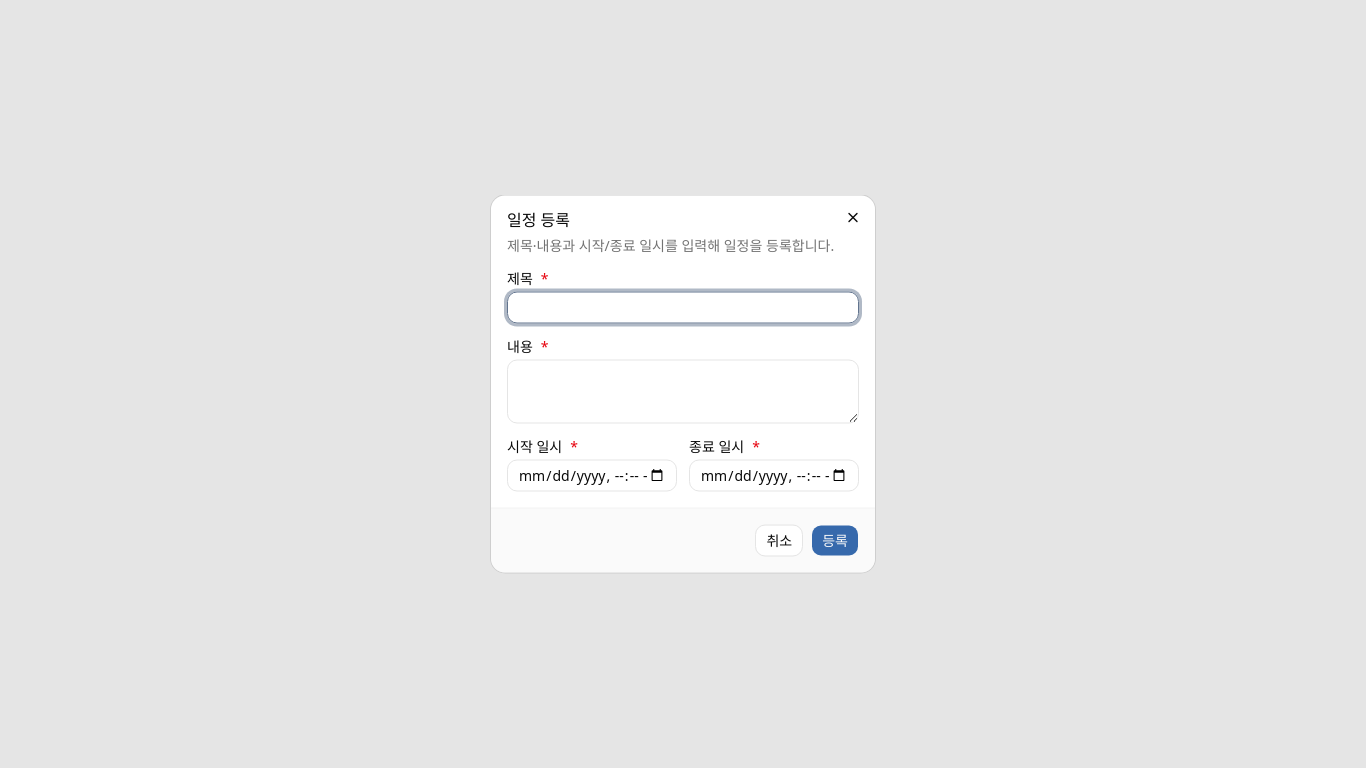
Scenario: ScheduleCreateDialog › 종료 일시가 시작 일시보다 이르면 인라인 에러가 뜨고 요청을 보내지 않는다
The width and height of the screenshot is (1366, 768).
Type "팀 회의 일정" into the field labelled "제목 *" at x=683, y=308, box [507,292,859,324]
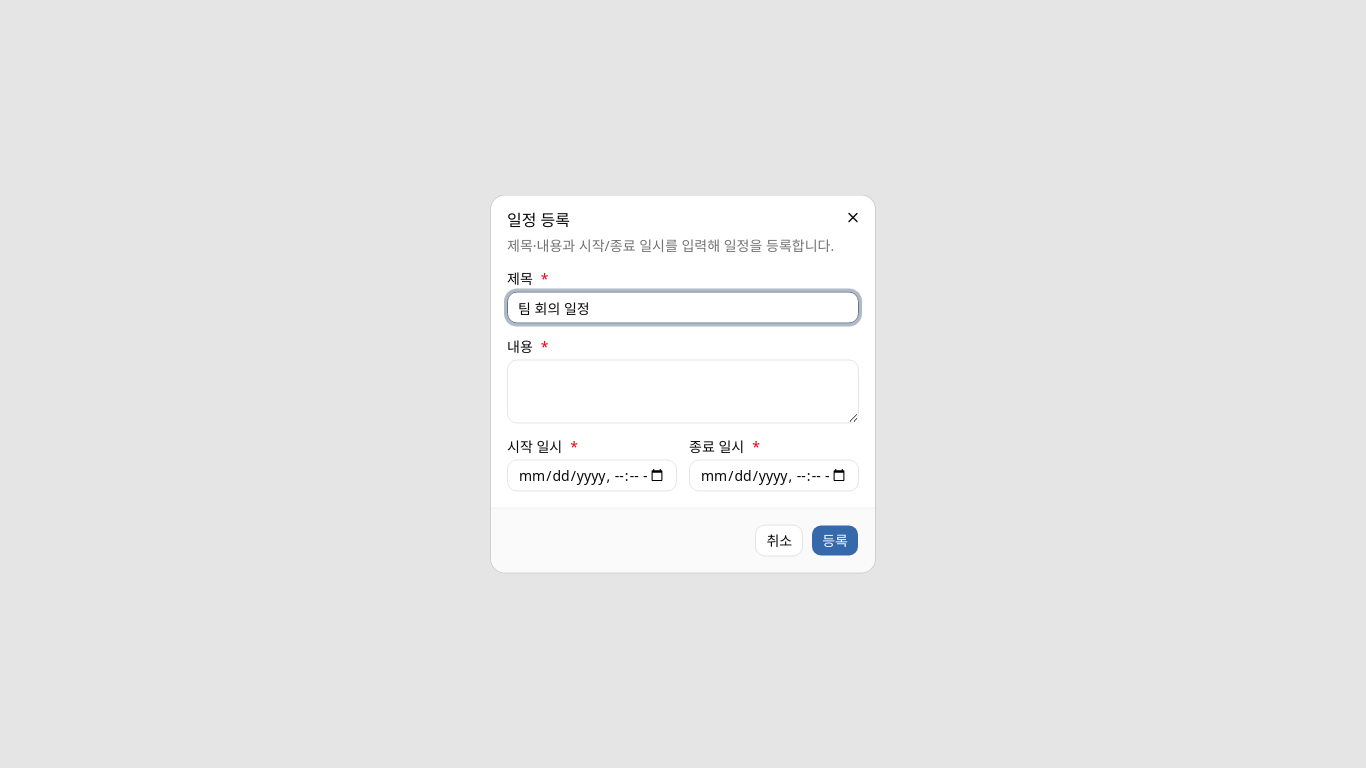
Type "주간 스크럼 진행" into the text box labelled "내용 *" at x=683, y=392, box [507,360,859,424]
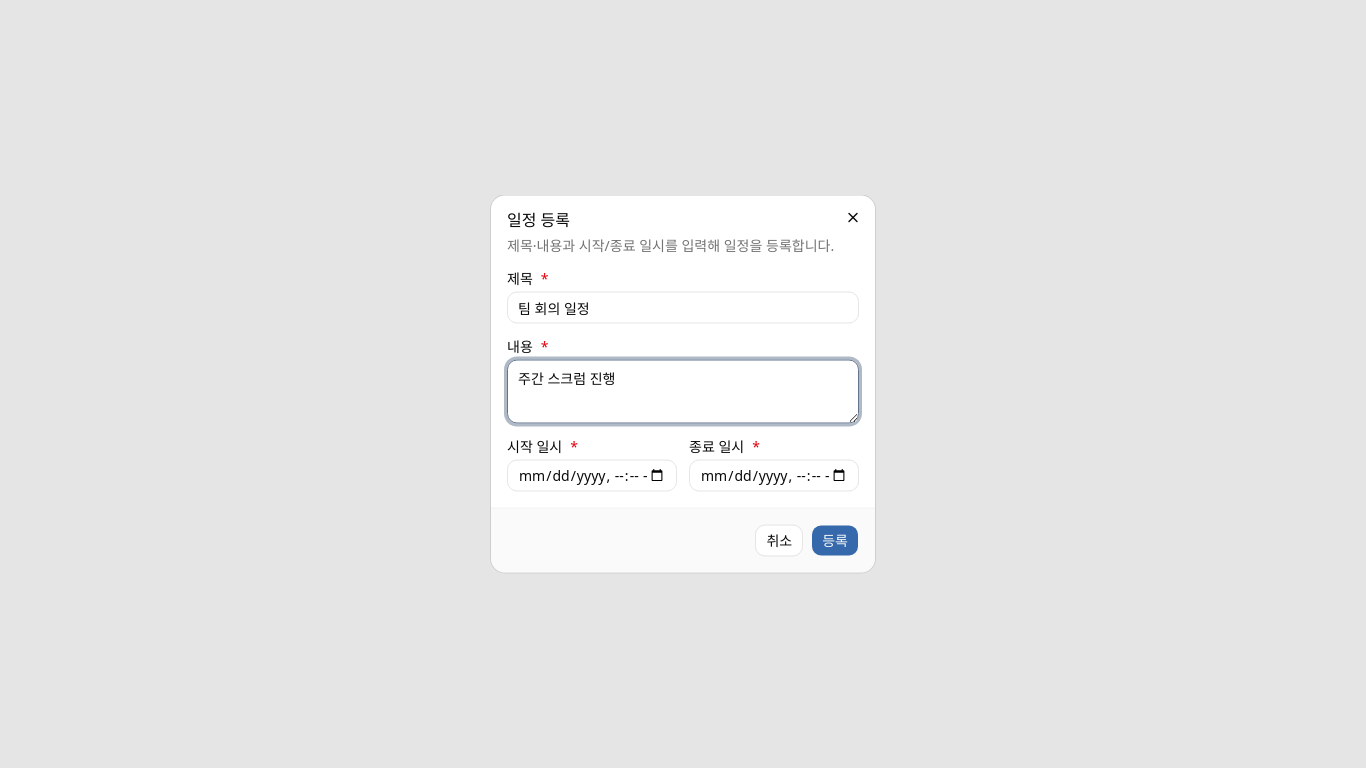
Type "2026-07-15T11:00" into the field labelled "시작 일시 *" at x=592, y=476, box [507,460,677,492]
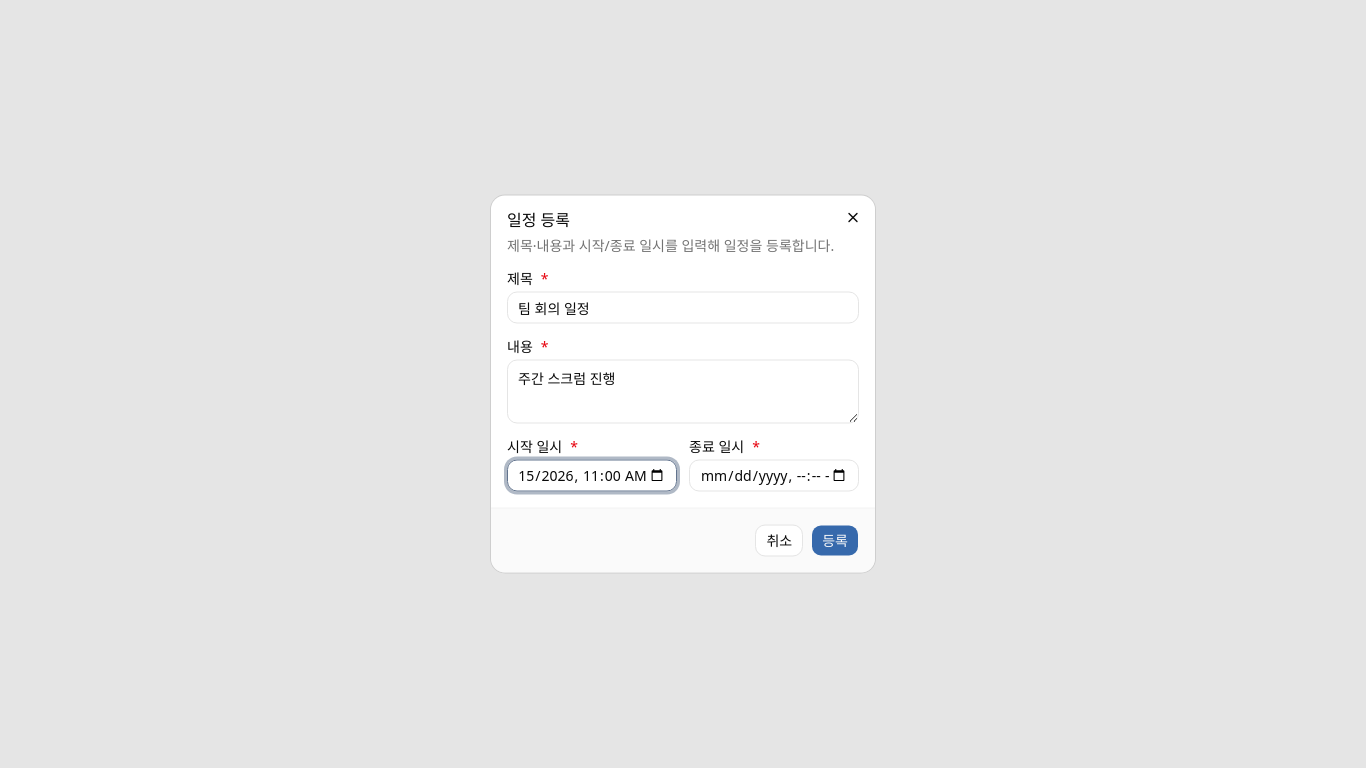
Type "2026-07-15T10:00" into the field labelled "종료 일시 *" at x=774, y=476, box [689,460,859,492]
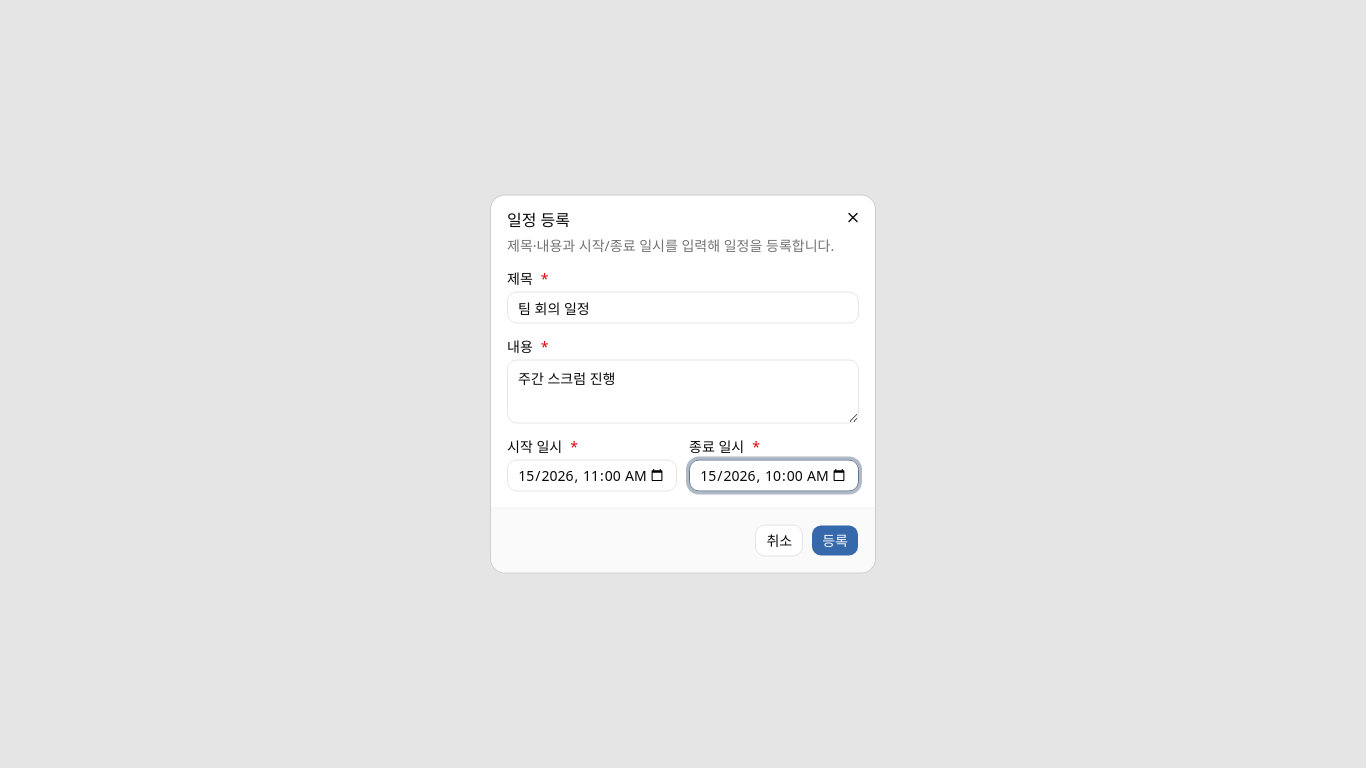
Click the button "등록" at x=835, y=540, box [811,524,859,556]
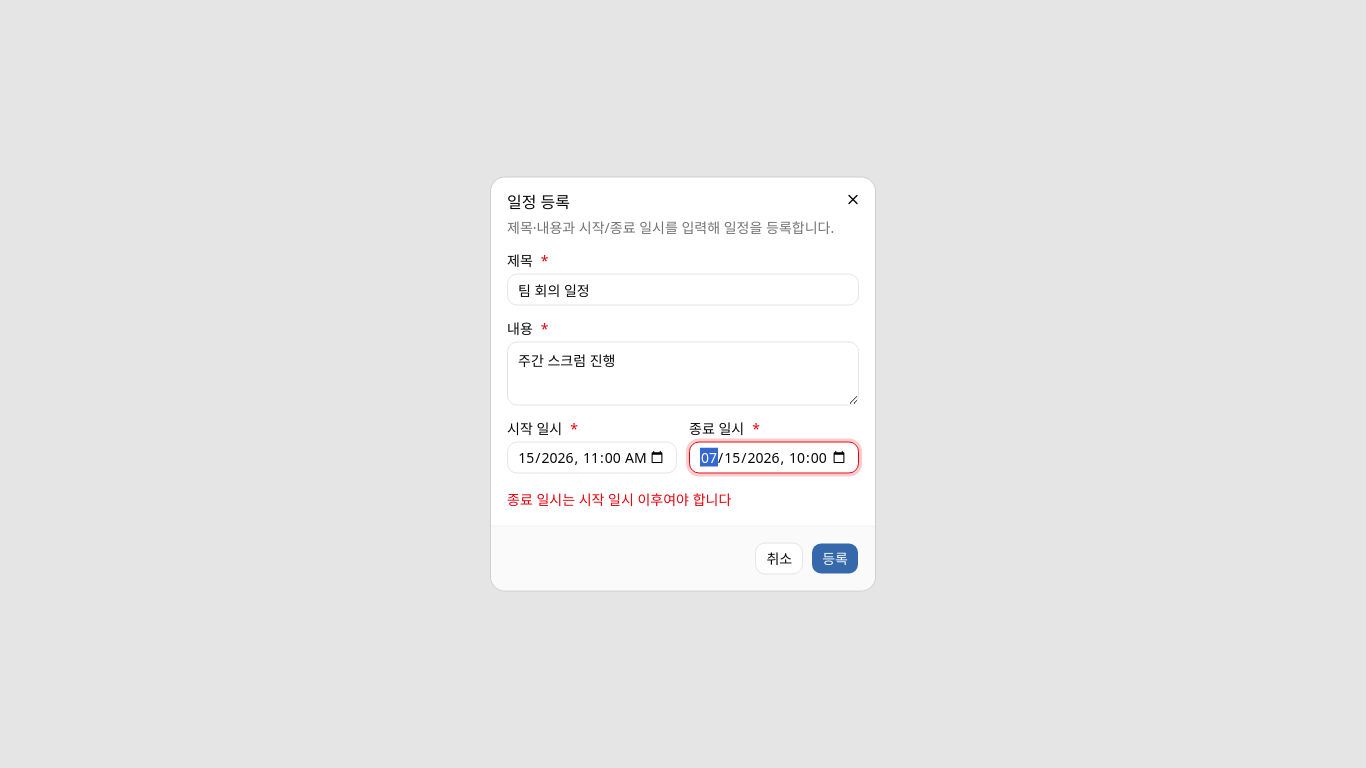
Expected: the text "종료 일시는 시작 일시 이후여야 합니다" is shown, [507,490,731,508]
